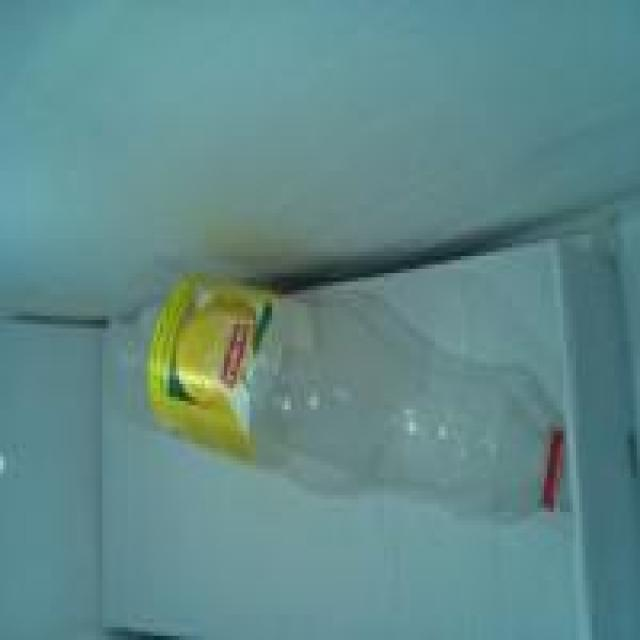bottle: (82, 243, 593, 536)
